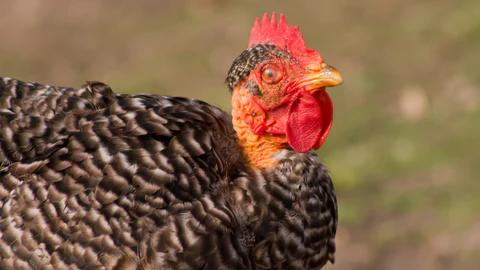AbNormal: (7, 11, 377, 270)
